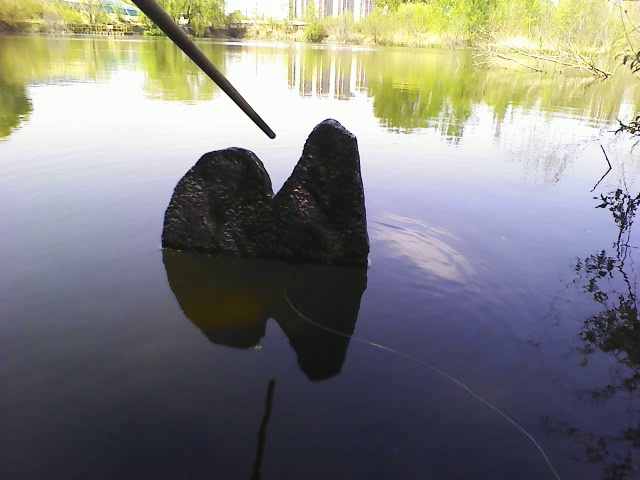rock: (164, 113, 372, 269)
